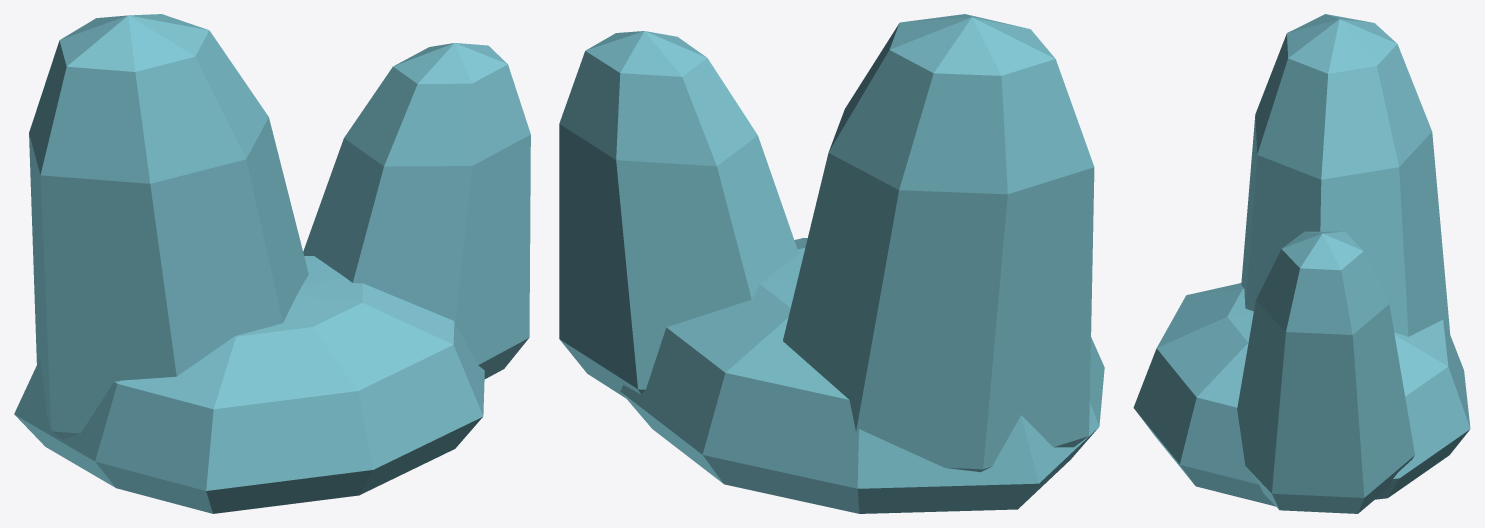
File: Glass_Ore.glb
3 views of the same model, side by side, from view 1: azimuth 30°, elevation 25°; view 2: azimuth 150°, elevation 25°; view 3: azimuth 270°, elevation 25° (orthographic). The views are drawn at different scales.
Visible parts, largest first — view 1: Glass_Ore; view 2: Glass_Ore; view 3: Glass_Ore.
Boxes of the visible parts, <box> form: Glass_Ore: <box>14,14,530,513</box>; Glass_Ore: <box>559,14,1104,513</box>; Glass_Ore: <box>1133,14,1470,513</box>.
Size of the model in its own units: 1.36 by 1.17 by 0.9722.
